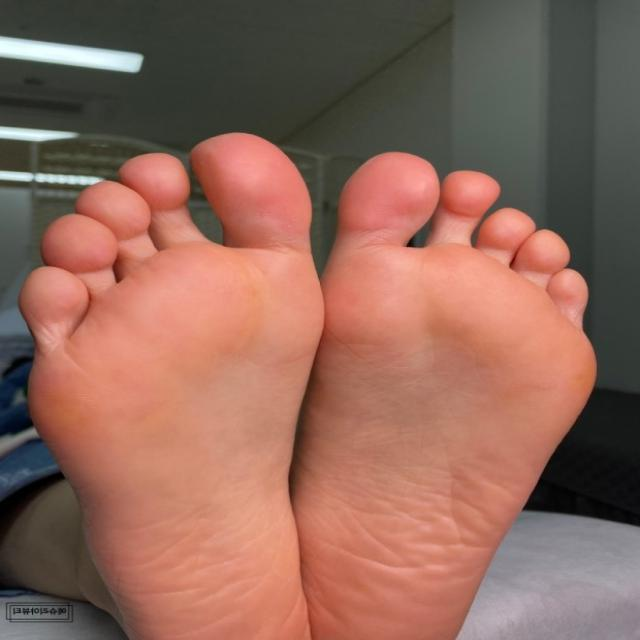No_Shoes: (13, 131, 333, 640), (302, 150, 614, 640)
